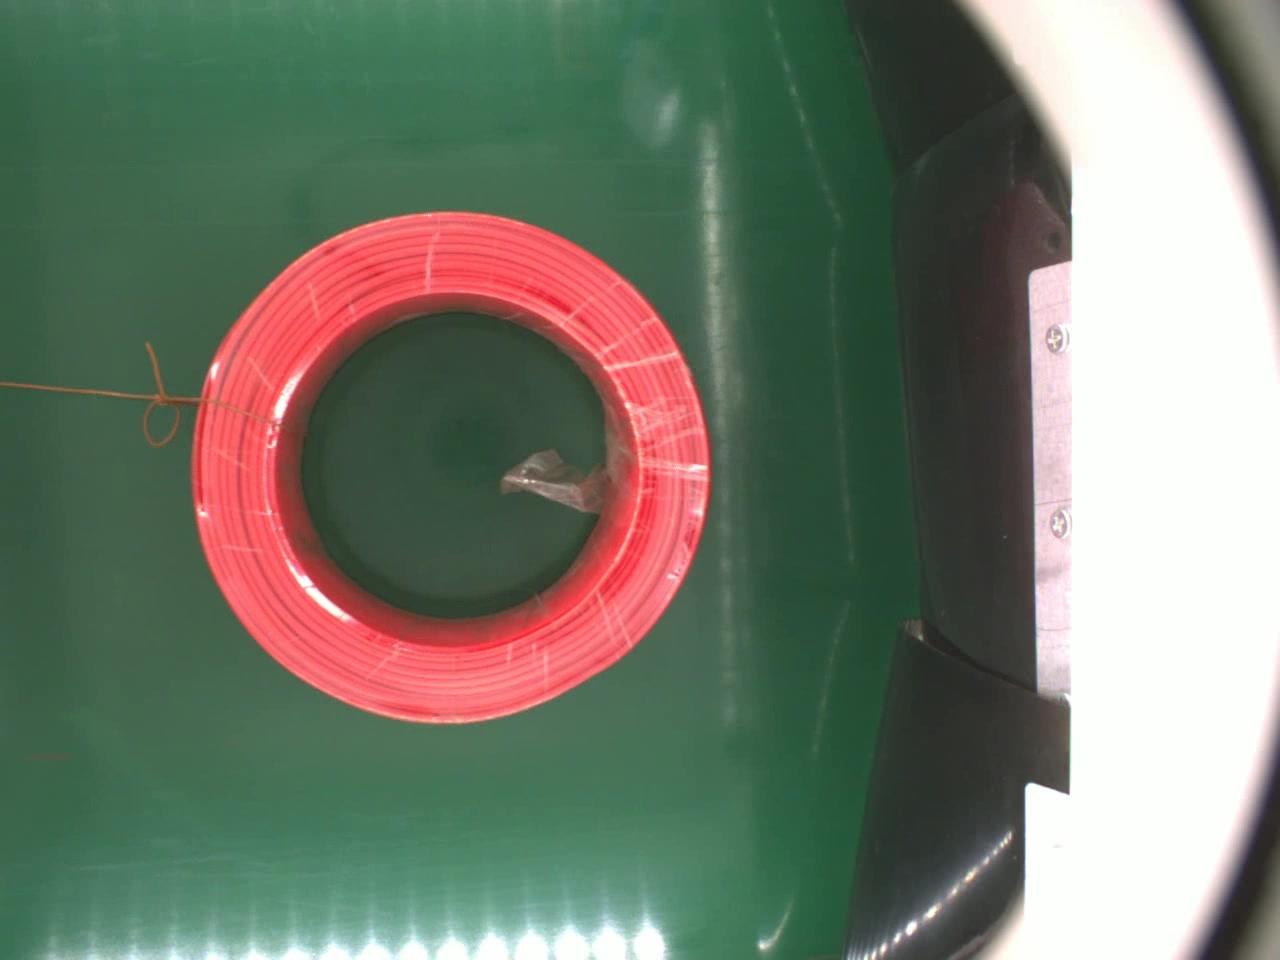red: (187, 209, 710, 726)
